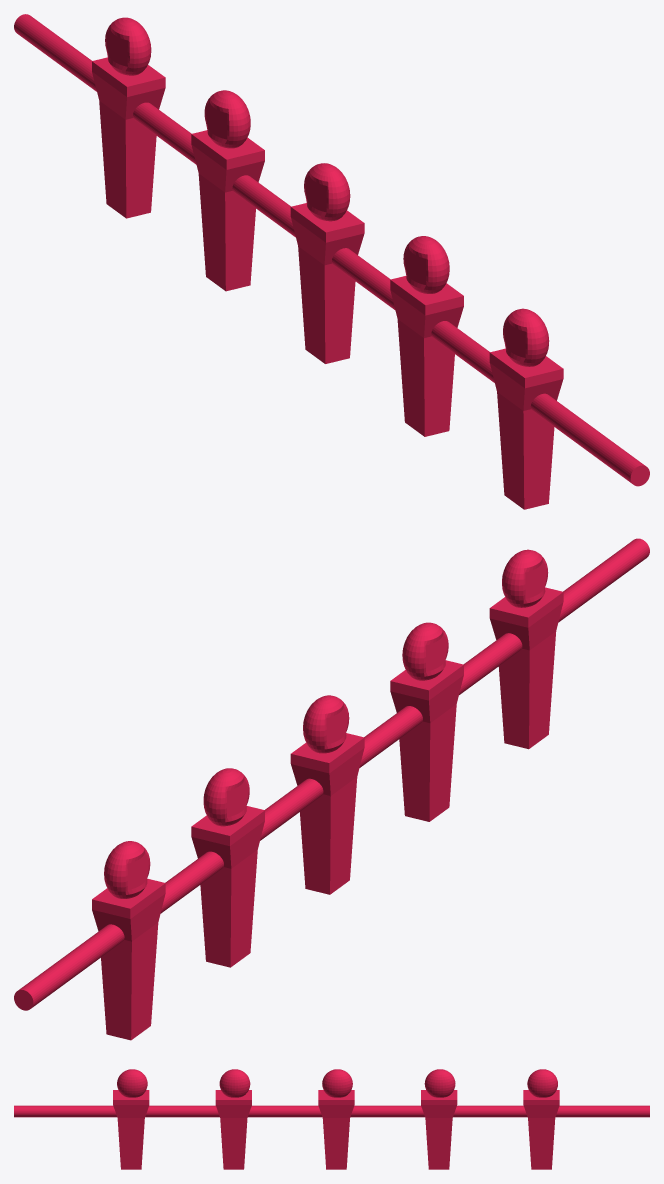
File: Player_B3.glb
3 renders of one model, top to bottom at view 1: azimuth 30°, elevation 25°; view 2: azimuth 150°, elevation 25°; view 3: azimuth 270°, elevation 25°, orthographic. The views are drawn at different scales.
Visible parts, largest first — view 1: Player_B3; view 2: Player_B3; view 3: Player_B3.
Boxes of the visible parts, <box> form: Player_B3: <box>14,14,649,509</box>; Player_B3: <box>14,538,649,1040</box>; Player_B3: <box>14,1069,649,1169</box>.
Bounding box in the file's own units: 1.57 × 7.28 × 43.39.
